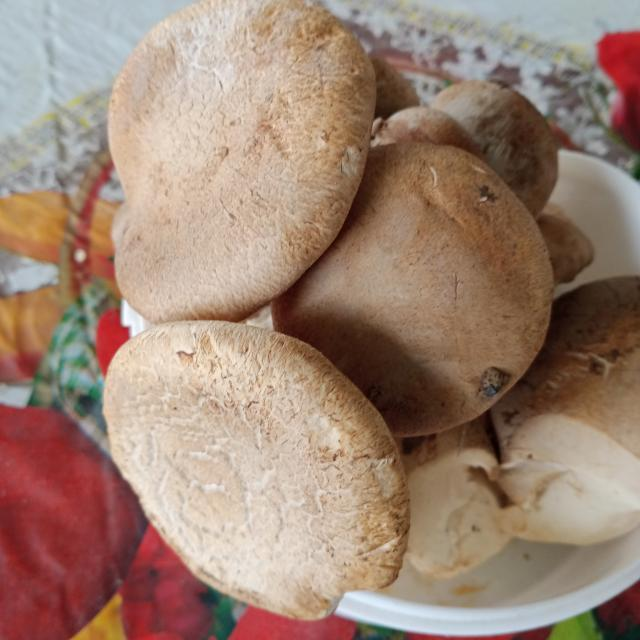Pleurotus cystidiosus: (297, 84, 592, 438), (105, 317, 409, 621), (107, 3, 377, 321), (500, 276, 640, 545)
